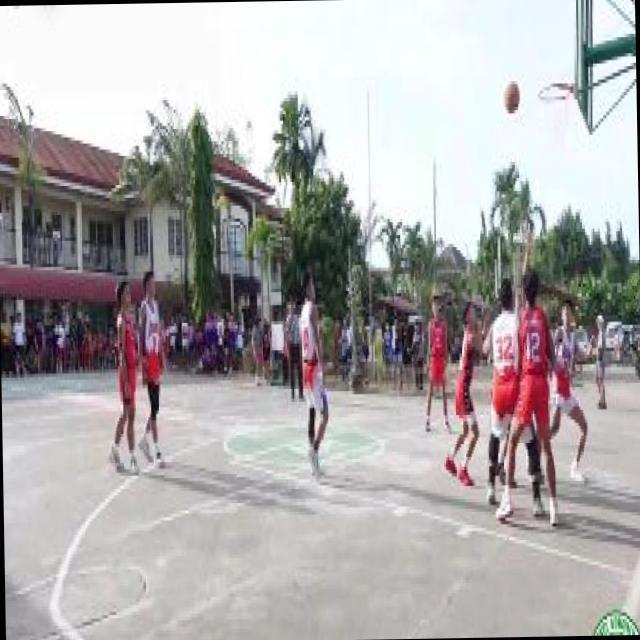ball: (501, 78, 522, 115)
hoop: (535, 82, 580, 104)
